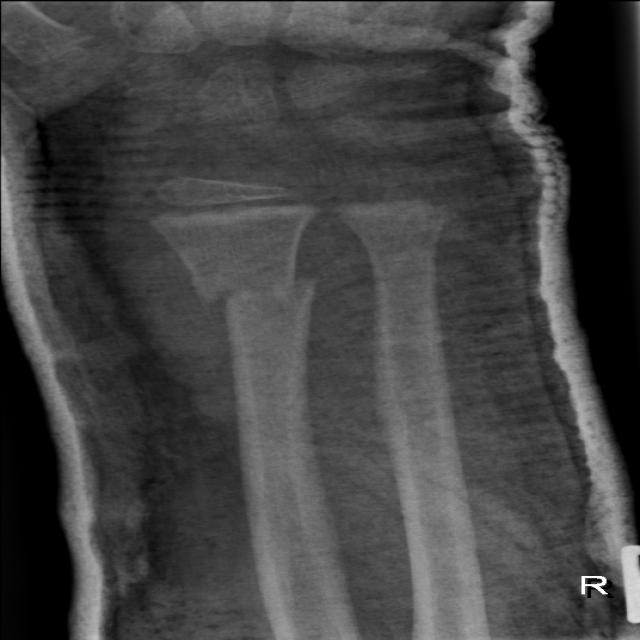radius fracture: (171, 249, 351, 356)
